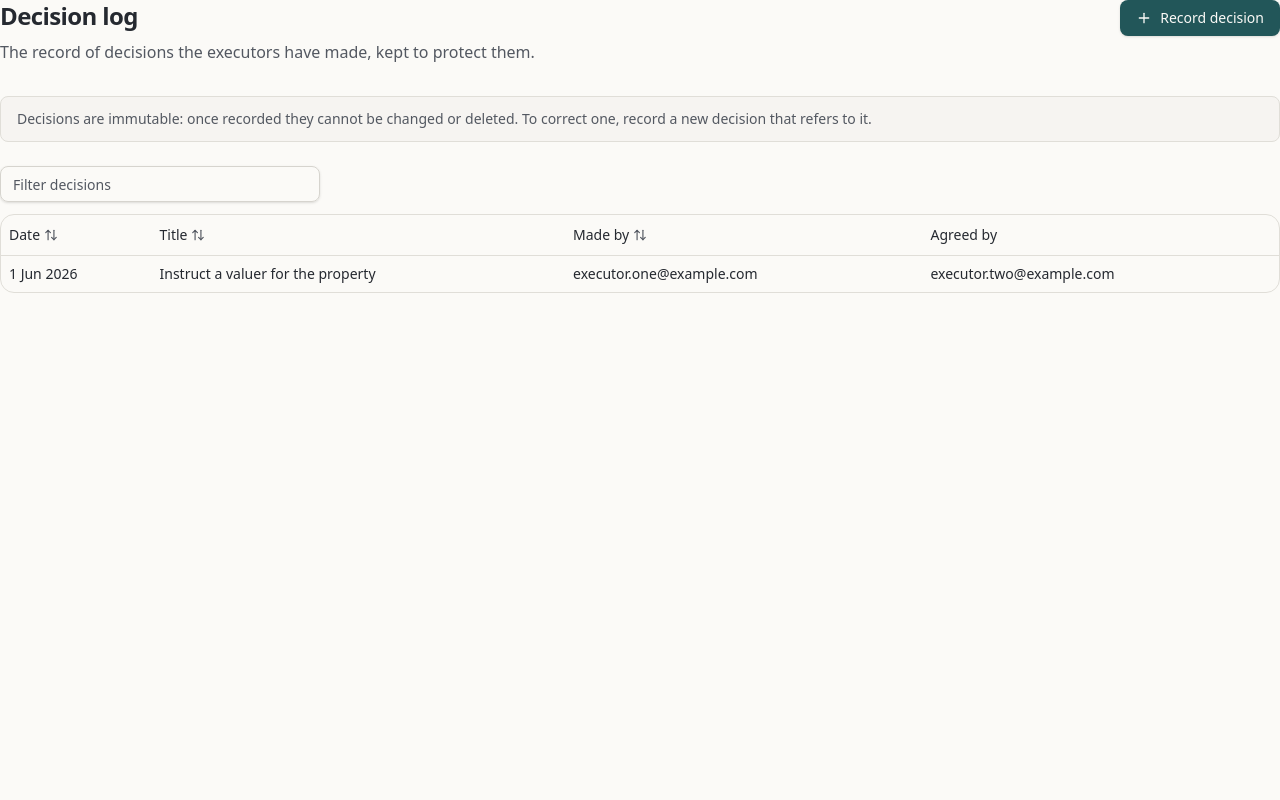
Scenario: ExecutorPage (decision log) › shows the full rationale in the detail dialog
This screenshot has width=1280, height=800.
Step 1. Click the text "Instruct a valuer for the property" → (358, 273), box [152,255,565,292]
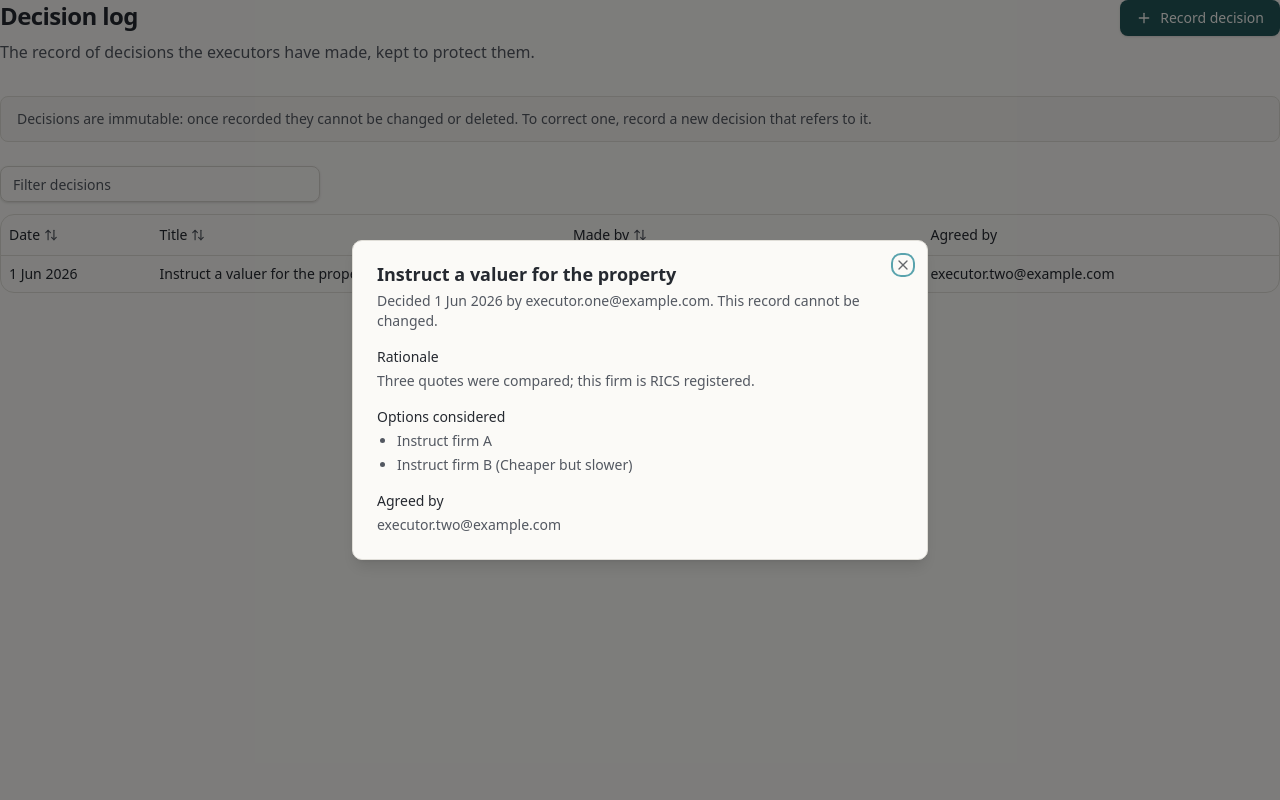
Check: the text "Three quotes were compared; this firm is RICS registered." is shown, box [377,371,755,390]
Check: the list item "Instruct firm A" is shown, box [397,431,492,450]
Check: the list item "Instruct firm B (Cheaper but slower)" is shown, box [397,455,632,474]
